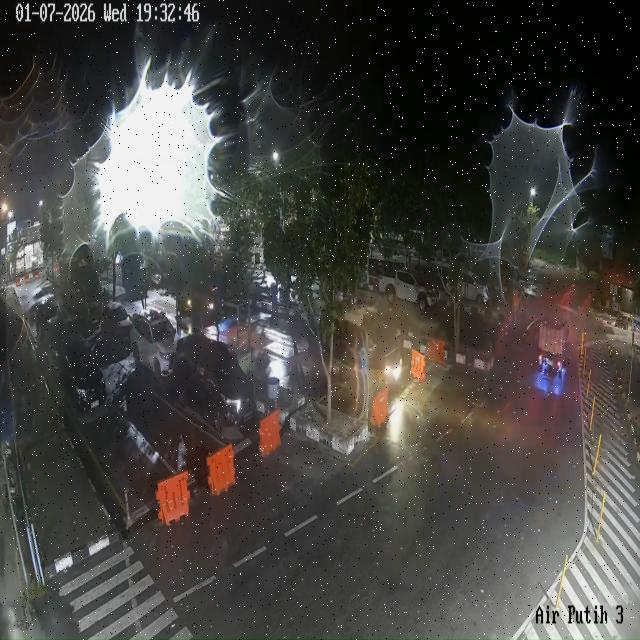Golongan IVA: (174, 334, 256, 432), (38, 314, 106, 422), (130, 310, 176, 379), (100, 302, 132, 344)
Golongan IVB: (377, 270, 439, 312), (538, 319, 568, 380)
Golongan VB: (59, 245, 102, 322)
